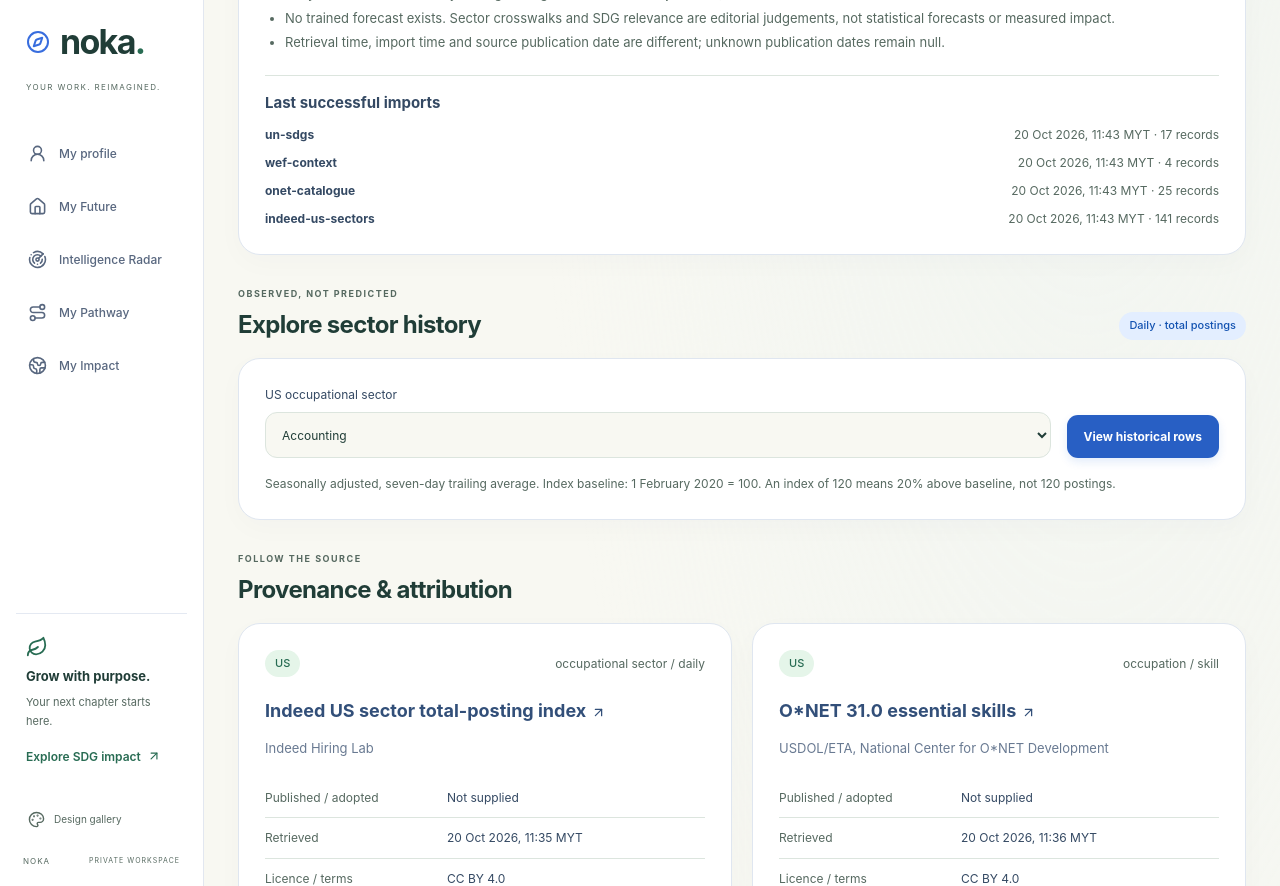
Test case: public evidence journey › shows coverage, dates, attribution and storage limitations
(page scrolled)
Click the button "View historical rows" at [1143, 436], box [1066,415,1219,458]
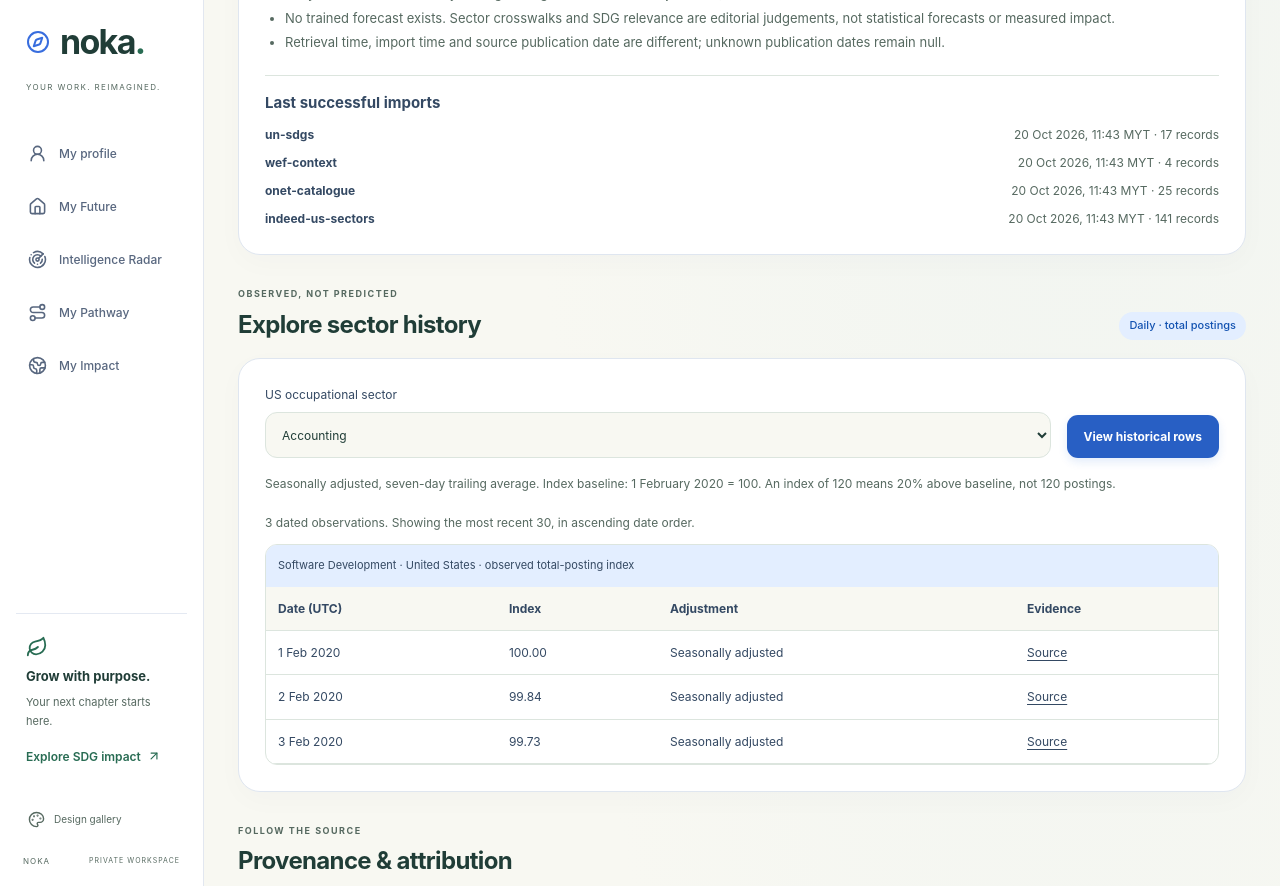
Expected: the table is shown, [266,545,1218,764]
Expected: the text "2 Feb 2020" is shown, [266,675,497,719]
